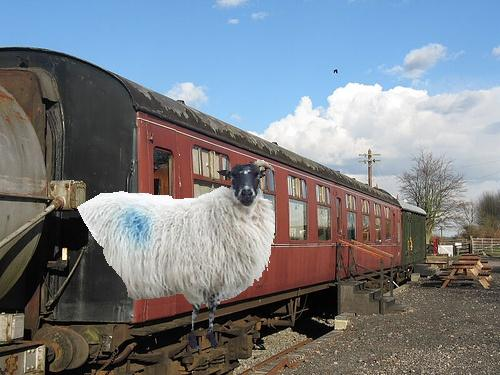tampered: (78, 161, 275, 349)
